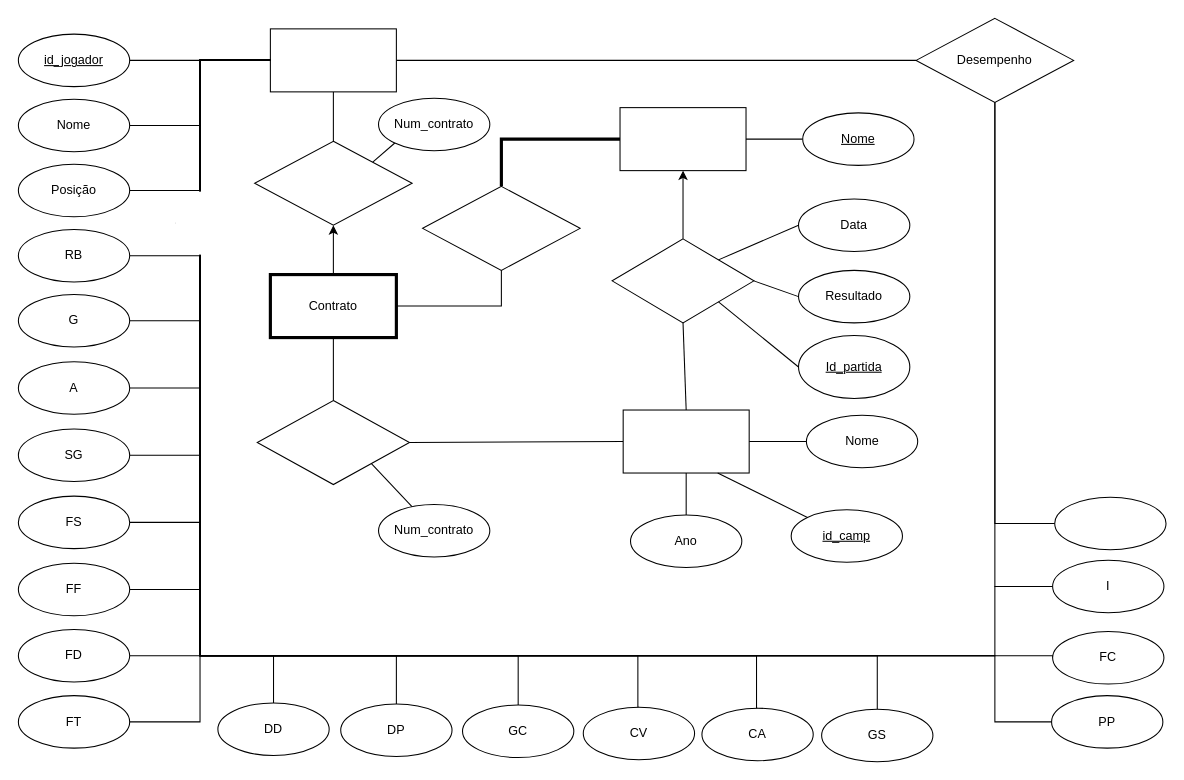
The diagram is 1184 pixels wide and 780 high, and some of its shapes have lost their labels. The shapes that lost their labels are listed below. From the top down, each one's centre as x and y in pixels, then its label:
At point (332, 60): "Jogador".
At point (682, 139): "Time".
At point (333, 182): "Cont_jogador".
At point (501, 227): "Cont_time".
At point (682, 280): "Partida".
At point (333, 442): "Cont_Camp".
At point (685, 441): "Campeonato".
At point (1110, 523): "PE".
